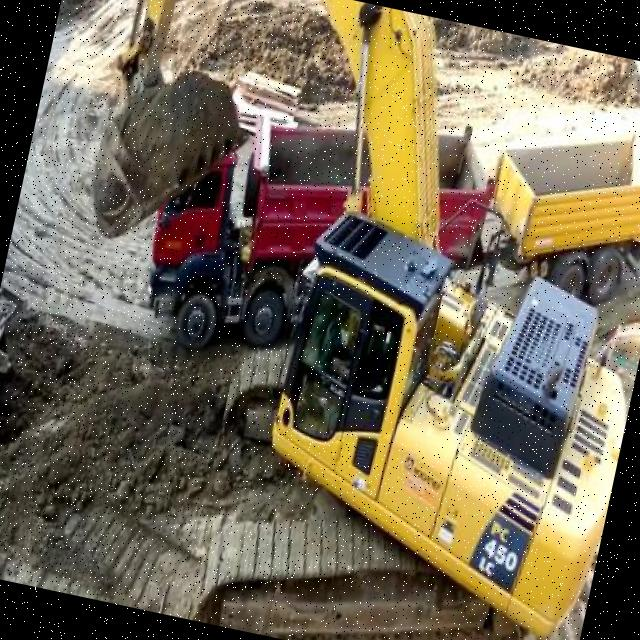Dump Truck: (126, 60, 508, 405)
Excavator: (0, 0, 640, 640)
